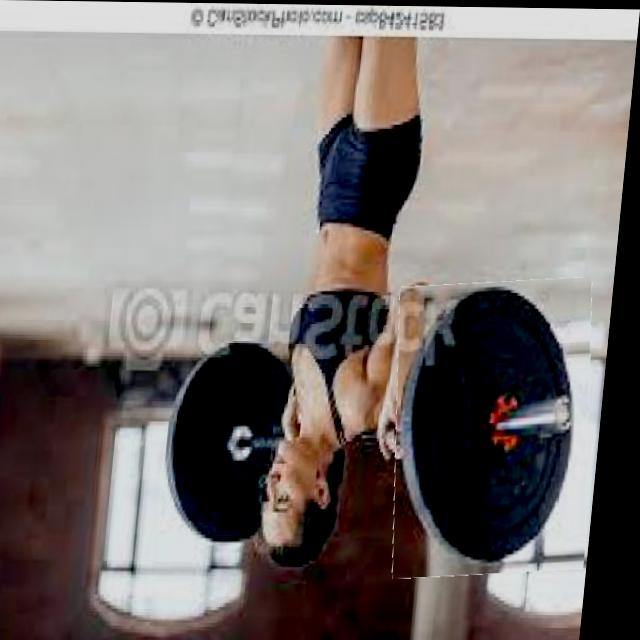barbell: (390, 277, 613, 577)
